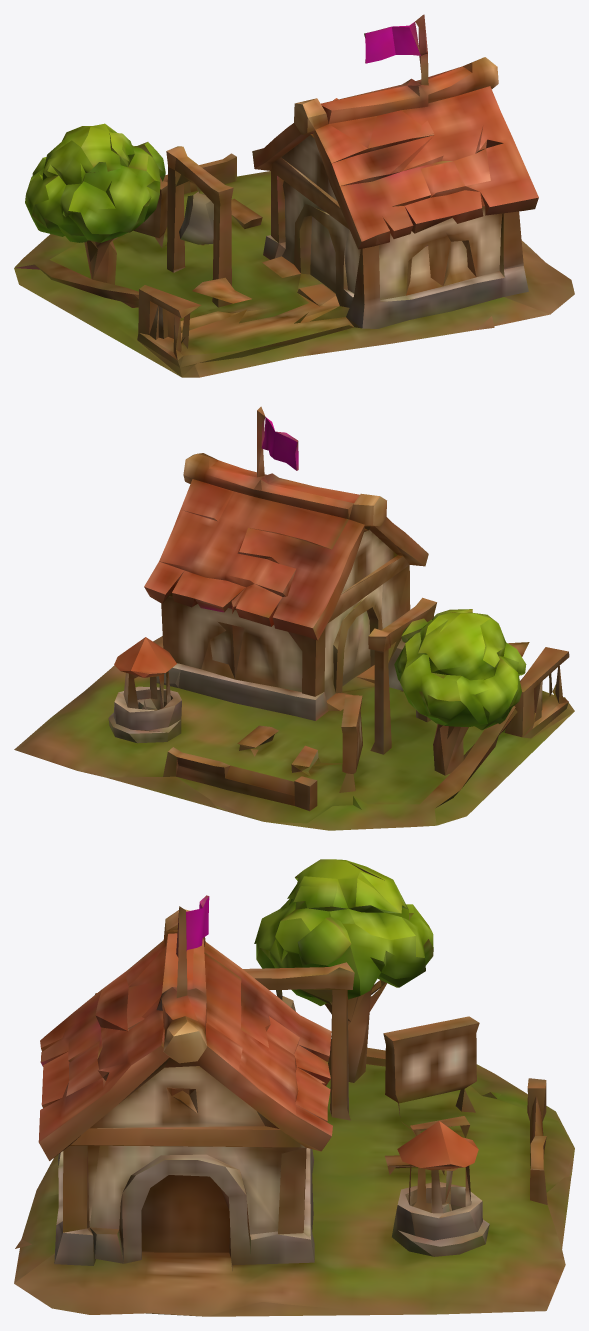
Rendered from village.lod2.glb.
3 views of the same model, one above another, from view 1: azimuth 30°, elevation 25°; view 2: azimuth 150°, elevation 25°; view 3: azimuth 270°, elevation 25° (orthographic). The views are drawn at different scales.
Parts seen in each view (by area): view 1: village.lod2_uv; view 2: village.lod2_uv; view 3: village.lod2_uv.
Boxes of the visible parts, box(x1,y1,x2,y2) form: village.lod2_uv: box(14, 14, 574, 377); village.lod2_uv: box(14, 406, 574, 830); village.lod2_uv: box(14, 859, 574, 1316).
Bounding box in the file's own units: 1.86 × 1.08 × 1.62.
Materials: 1 (1 with a texture image).
